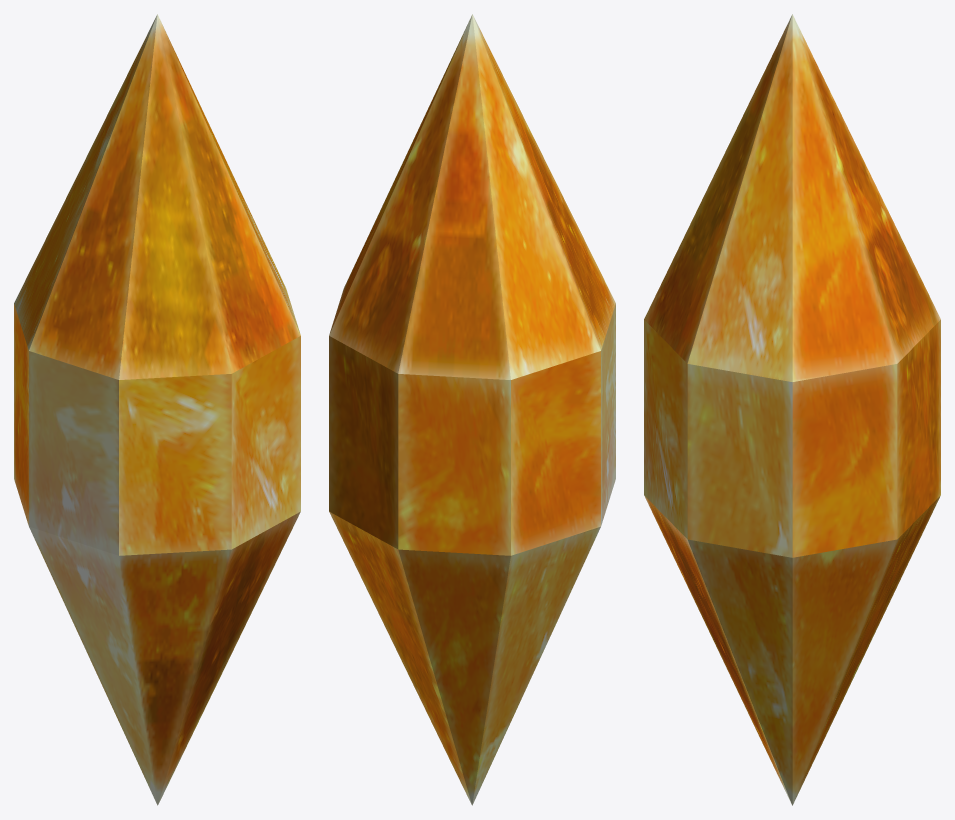
The picture shows the model from 3 angles, left to right: view 1: azimuth 30°, elevation 25°; view 2: azimuth 150°, elevation 25°; view 3: azimuth 270°, elevation 25°; orthographic projection.
Visible parts, largest first — view 1: ct_ma45-col; view 2: ct_ma45-col; view 3: ct_ma45-col.
Part boxes in pixels (x1,y1,x2,y2): ct_ma45-col: [14, 14, 300, 805]; ct_ma45-col: [329, 14, 615, 805]; ct_ma45-col: [644, 14, 940, 805].
Bounding box in the file's own units: 0.1191 × 0.3503 × 0.1191.
Materials: 1 (1 with a texture image).
